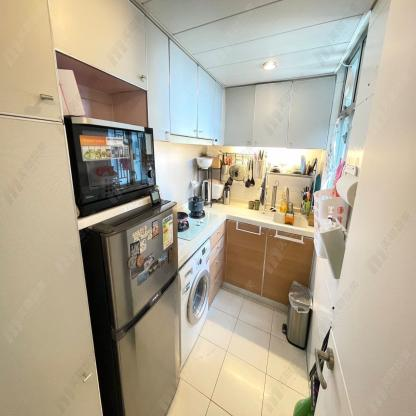Cupboard: (209, 219, 315, 314)
Fridge: (81, 197, 180, 416)
Microwave: (65, 115, 157, 220)
Sink: (272, 211, 307, 227)
Stove: (177, 207, 218, 240)
Washing Machine: (177, 234, 210, 373)
